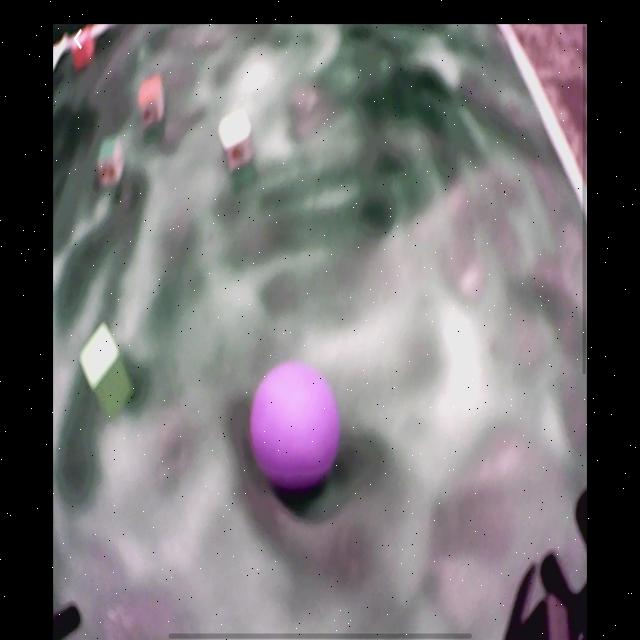ball: (251, 366, 344, 489)
